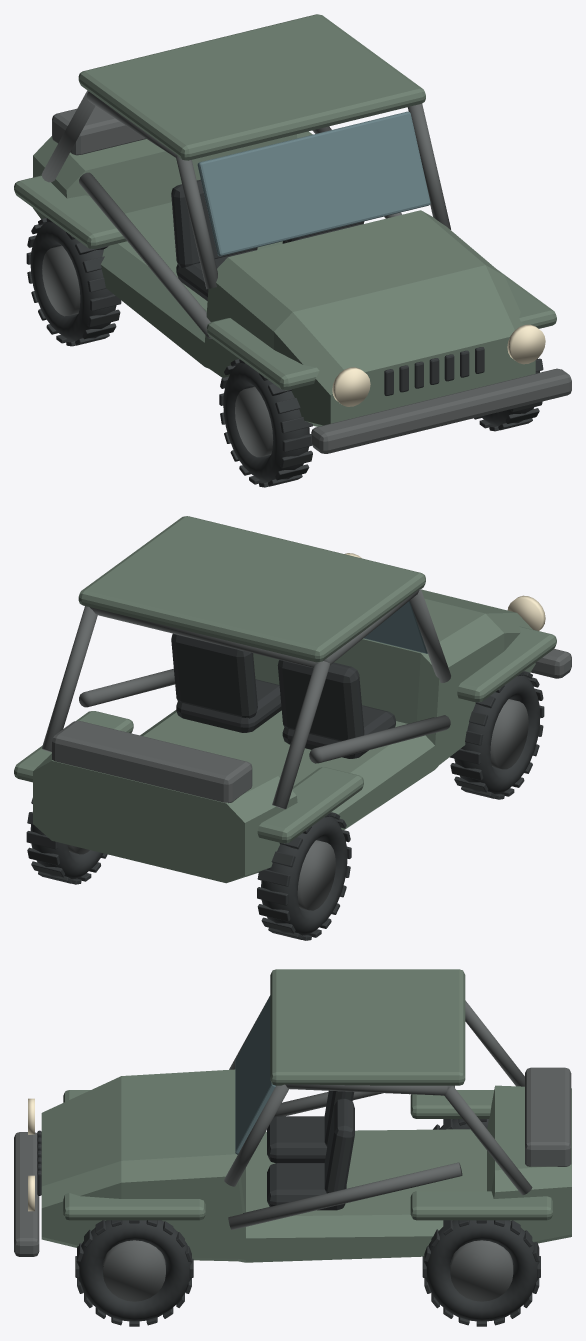
The model's file is Patrulha.fbx.
3 views of the same model, one above another, from view 1: azimuth 30°, elevation 25°; view 2: azimuth 150°, elevation 25°; view 3: azimuth 270°, elevation 25° (orthographic). The views are drawn at different scales.
Parts seen in each view (by area): view 1: Patrulha; view 2: Patrulha; view 3: Patrulha.
Part boxes in pixels (x1=…): Patrulha: x1=14, y1=14, x2=571, y2=487; Patrulha: x1=14, y1=516, x2=571, y2=940; Patrulha: x1=14, y1=969, x2=571, y2=1326.
Bounding box in the file's own units: 192 × 183 × 373.
